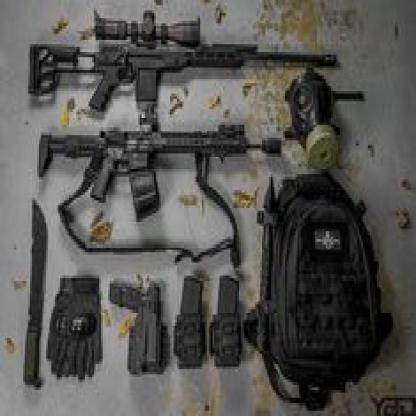Gun: (27, 10, 338, 114), (37, 111, 282, 215)
Knife: (23, 197, 48, 392)
Pistol: (109, 279, 166, 377)
